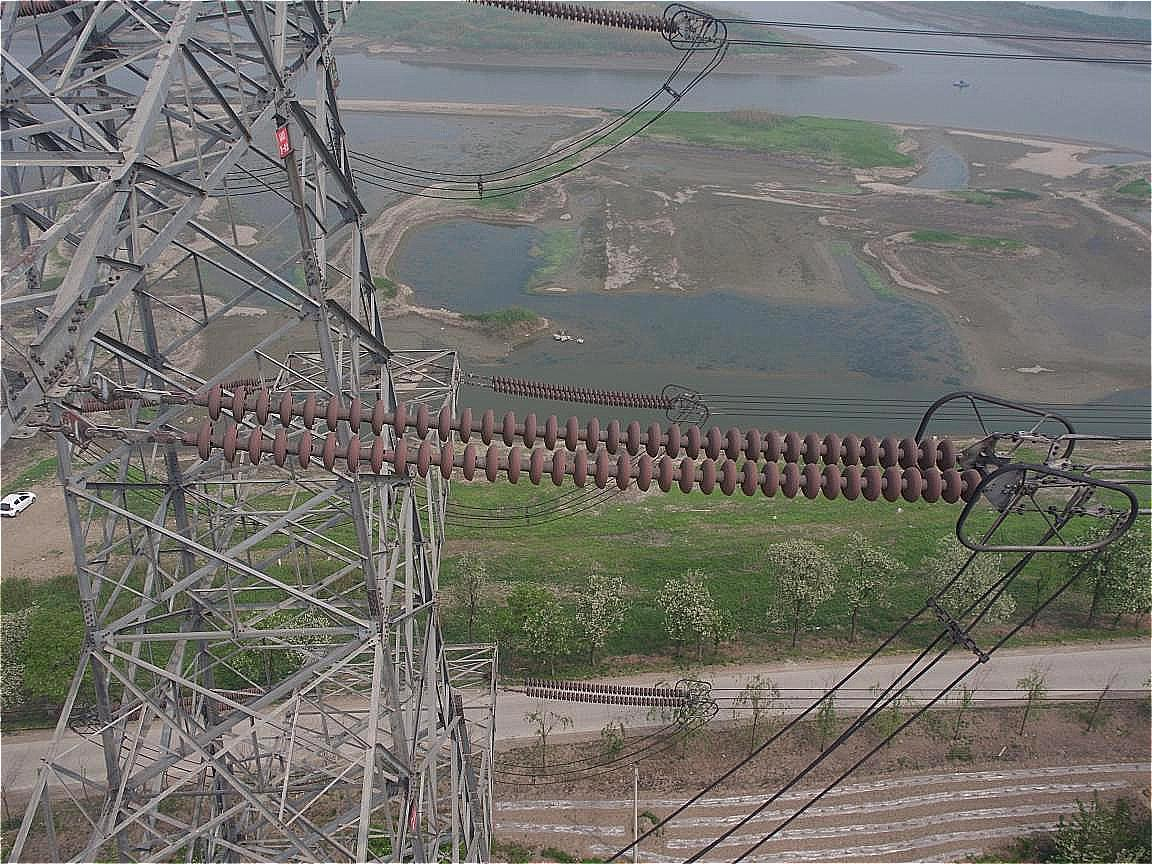insultor1: (170, 364, 985, 519), (478, 368, 691, 417)
insultor2: (432, 1, 707, 51)
